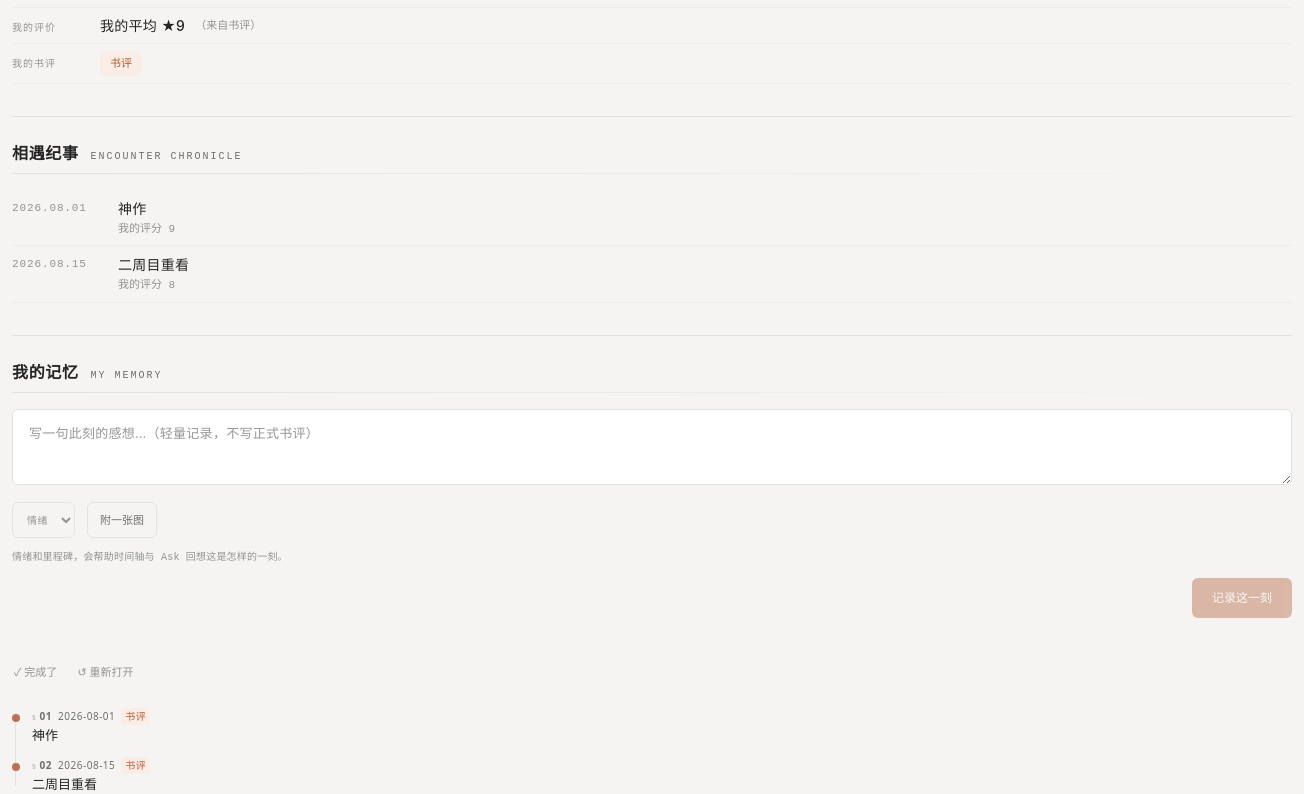
Test: 我的记忆章节（Phase 3-2-D） › 文字记录成功：显示「已留下这一刻」并清空输入
(page scrolled)
Type "今天很平静" into the text box with placeholder "写一句此刻的感想…（轻量记录，不写正式书评）" at (652, 447), box 12,409 -> 1292,485
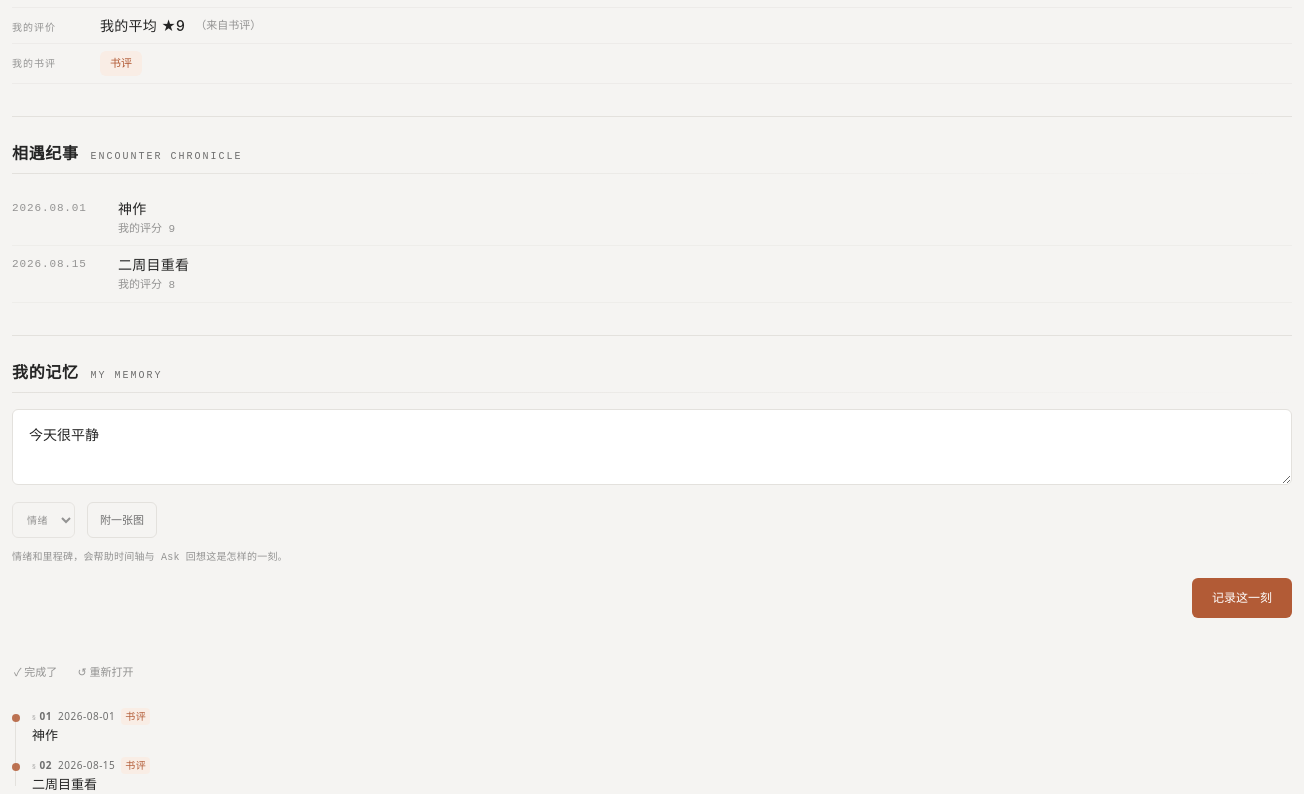
Click the button "记录这一刻" at (1242, 598), box 1192,578 -> 1292,618
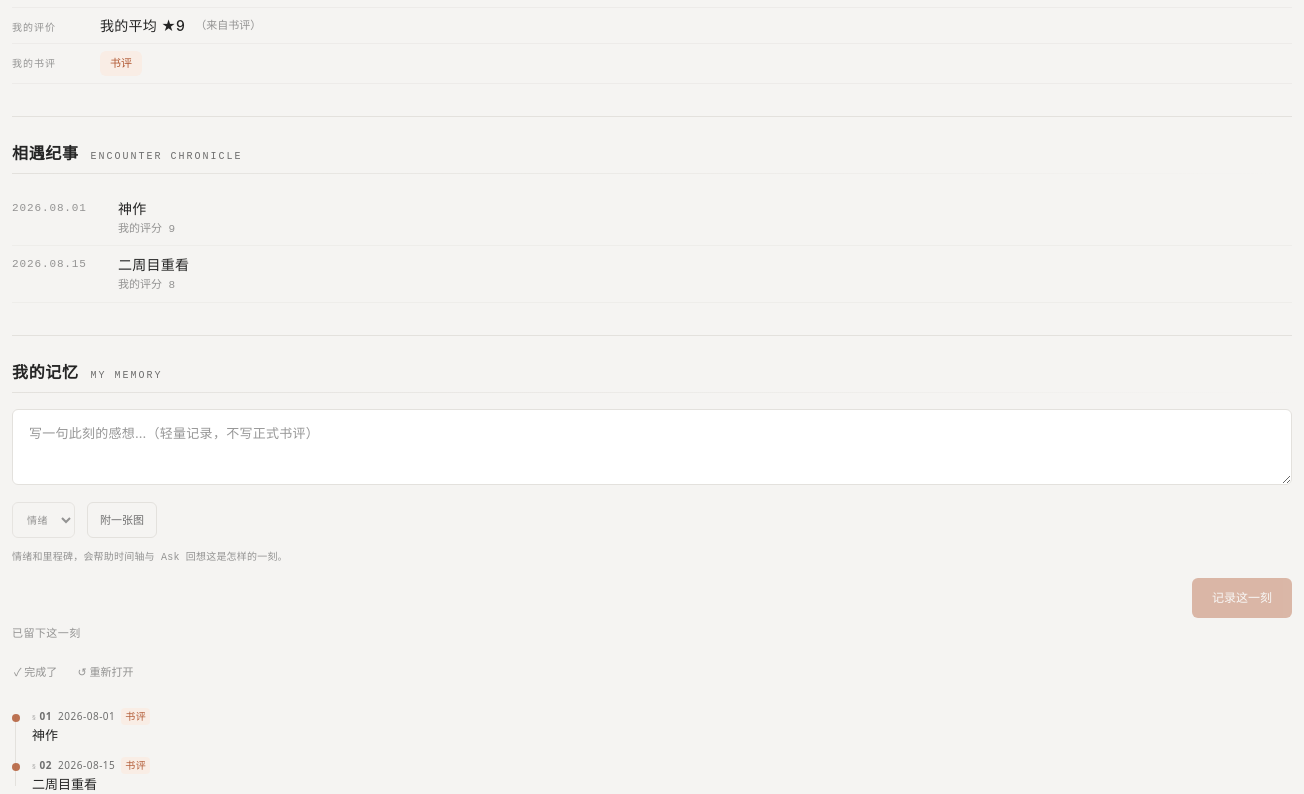
Check: the text "已留下这一刻" is shown, box 12,628 -> 81,640
Check: the text box with placeholder "写一句此刻的感想…（轻量记录，不写正式书评）" is empty, box 12,409 -> 1292,485
